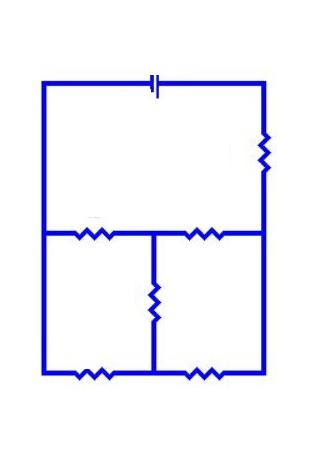resistor: (169, 209, 250, 266), (236, 114, 280, 179), (136, 264, 177, 330), (60, 352, 127, 387), (174, 357, 246, 389), (65, 214, 127, 243)
